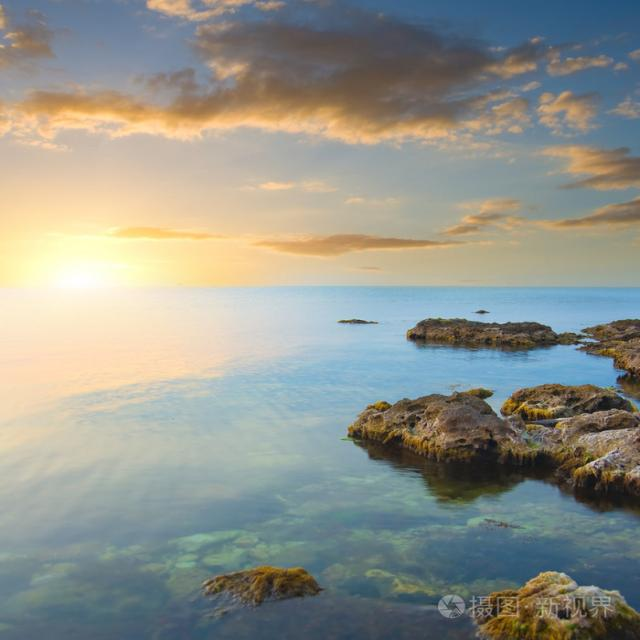reef: (378, 302, 640, 484), (197, 541, 382, 640), (434, 563, 636, 638)
